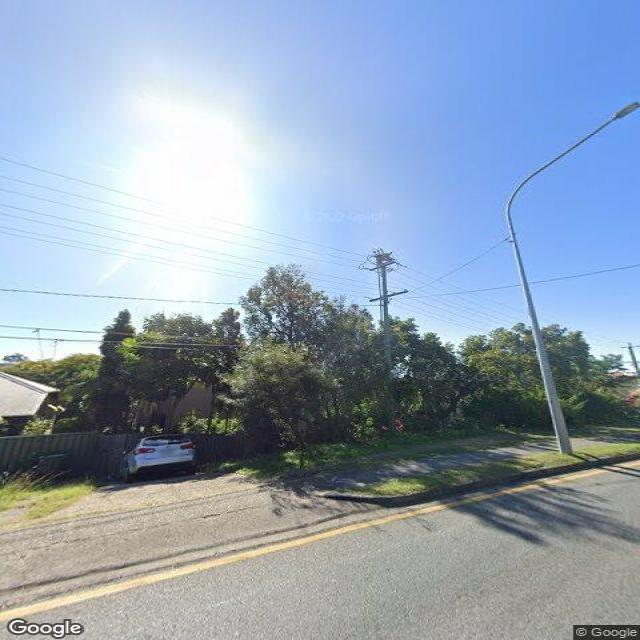HV-switch: (368, 247, 397, 267)
HV-transmission: (358, 255, 408, 272)
crossarm: (369, 291, 408, 302), (368, 261, 396, 272)
steel-pole: (505, 212, 576, 454)
streetlight: (504, 100, 640, 220)
timber-pole: (379, 266, 400, 441)
